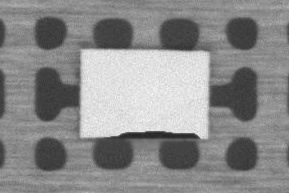DIE_BROKEN: (107, 125, 202, 141)
